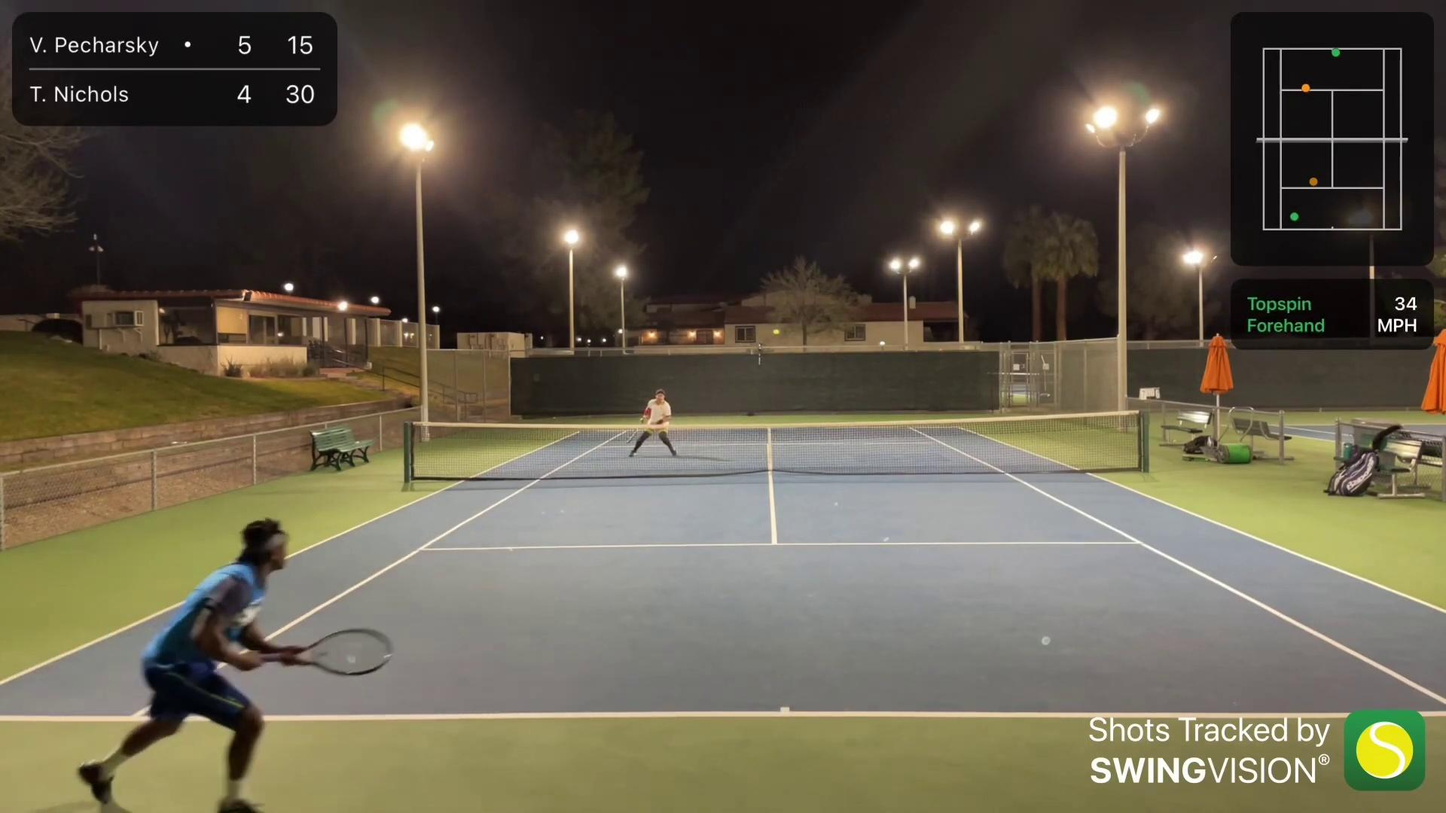ball: (774, 329, 781, 336)
